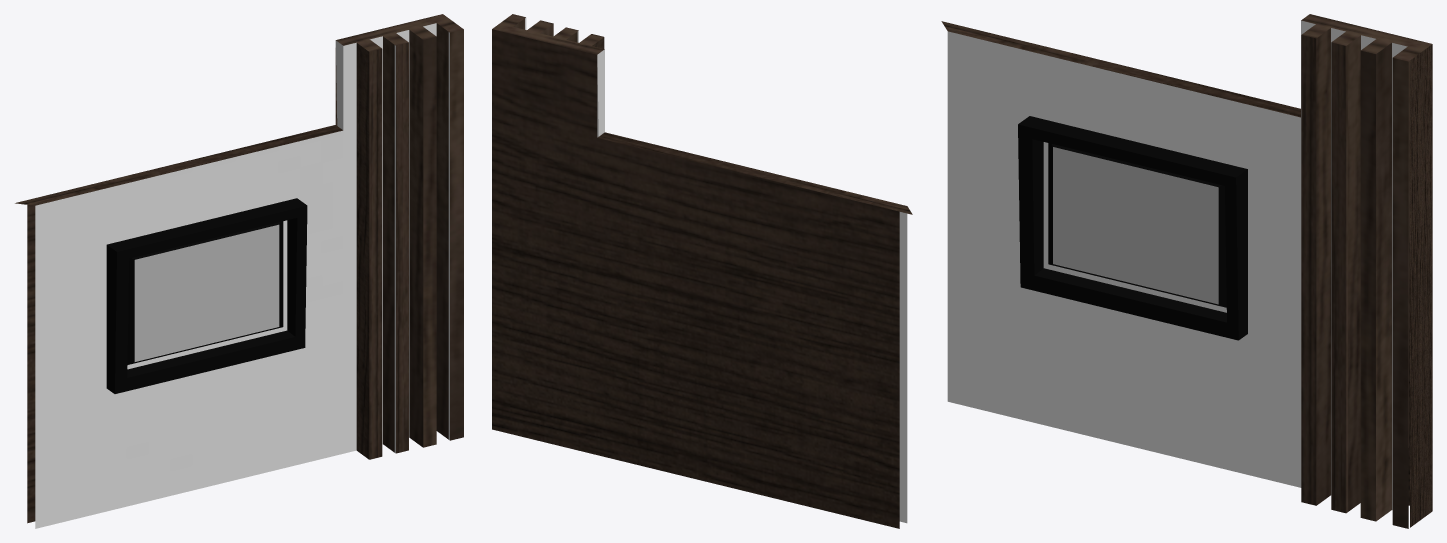
File: ParedTraseraS3.obj
3 renders of one model, left to right at view 1: azimuth 30°, elevation 25°; view 2: azimuth 150°, elevation 25°; view 3: azimuth 330°, elevation 25°, orthographic. The views are drawn at different scales.
Visible parts, largest first — view 1: ParedTraseraS3; view 2: ParedTraseraS3; view 3: ParedTraseraS3.
Boxes of the visible parts, x1,y1,x2,y2 form: ParedTraseraS3: (15, 14, 463, 528); ParedTraseraS3: (492, 14, 912, 528); ParedTraseraS3: (941, 14, 1432, 528).
Size of the model in its own units: 15.8 by 14.36 by 1.38.
